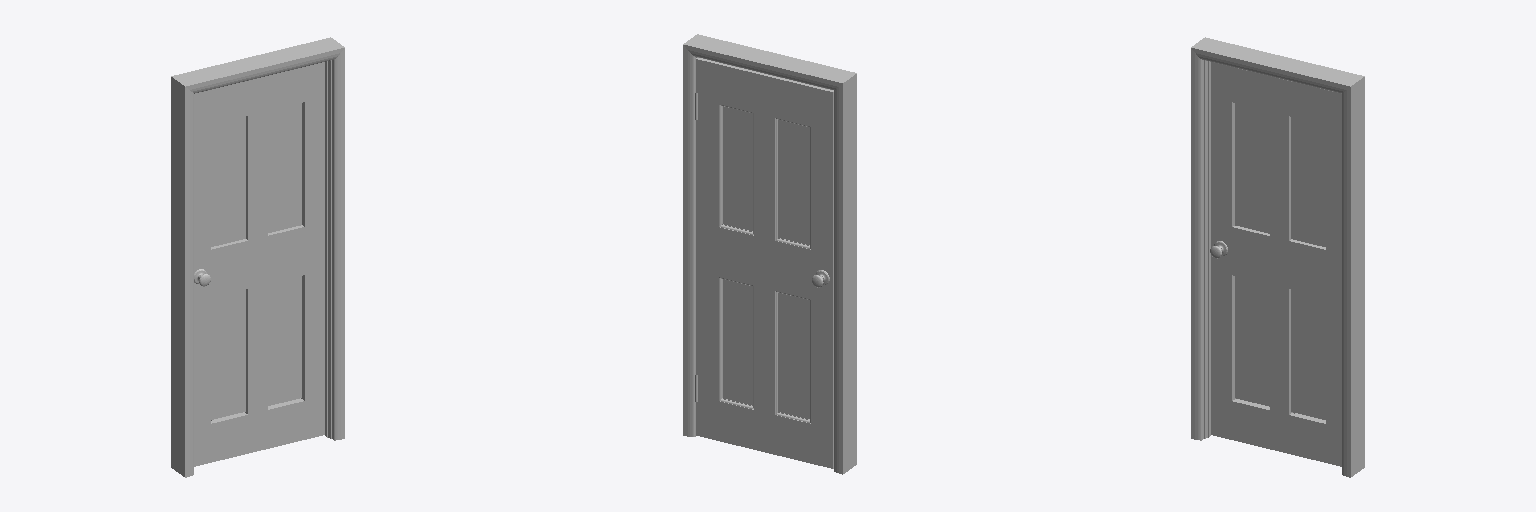
File: door1_2.obj
3 renders of one model, left to right at view 1: azimuth 30°, elevation 25°; view 2: azimuth 150°, elevation 25°; view 3: azimuth 330°, elevation 25°, orthographic.
Parts seen in each view (by area): view 1: extrudedSurface981_43_99, pCube222_5_61, pCube227_11_67, pCube224_8_64, pPlane730_29_29, pPlane732_31_31, pPlane731_30_30, pPlane729_28_28, extrudedSurface98_42_98, pCube223_6_62, pCube226_10_66, extrudedSurface982_50_106 (+7 smaller); view 2: extrudedSurface981_43_99, pCube222_5_61, pCube224_8_64, pCube227_11_67, pCube226_10_66, pPlane732_31_87, pCube223_6_62, pPlane730_29_85, pPlane731_30_86, pPlane729_28_84, extrudedSurface98_42_98, extrudedSurface982_50_106 (+6 smaller); view 3: extrudedSurface98_42_98, pCube224_8_64, pCube227_11_67, pCube222_5_61, pPlane732_31_31, pPlane729_28_28, pPlane730_29_29, pPlane731_30_30, extrudedSurface981_43_99, pCube223_6_62, pCube226_10_66, extrudedSurface982_50_106 (+7 smaller).
Boxes of the visible parts, box(x1,y1,x2,y2) form: extrudedSurface981_43_99: box(171, 77, 193, 477); pCube222_5_61: box(305, 62, 324, 439); pCube227_11_67: box(245, 111, 267, 414); pCube224_8_64: box(194, 90, 210, 466); pPlane730_29_29: box(211, 117, 245, 246); pPlane732_31_31: box(211, 289, 245, 419); pPlane731_30_30: box(268, 276, 301, 405); pPlane729_28_28: box(268, 103, 301, 232); extrudedSurface98_42_98: box(335, 48, 344, 440); pCube223_6_62: box(211, 398, 304, 462); pCube226_10_66: box(211, 67, 304, 124); extrudedSurface982_50_106: box(175, 40, 344, 93); extrudedSurface981_43_99: box(835, 74, 856, 474); pCube222_5_61: box(696, 58, 718, 440); pCube224_8_64: box(812, 87, 833, 468); pCube227_11_67: box(755, 112, 773, 415); pCube226_10_66: box(718, 63, 811, 125); pPlane732_31_87: box(779, 293, 809, 418); pCube223_6_62: box(718, 402, 811, 463); pPlane730_29_85: box(779, 120, 809, 244); pPlane731_30_86: box(723, 279, 752, 405); pPlane729_28_84: box(723, 107, 752, 230); extrudedSurface98_42_98: box(683, 45, 691, 436); extrudedSurface982_50_106: box(683, 34, 856, 89); extrudedSurface98_42_98: box(1342, 77, 1364, 477); pCube224_8_64: box(1211, 62, 1231, 439); pCube227_11_67: box(1270, 112, 1292, 414); pCube222_5_61: box(1326, 90, 1341, 466); pPlane732_31_31: box(1235, 276, 1269, 406); pPlane729_28_28: box(1291, 117, 1325, 246); pPlane730_29_29: box(1235, 103, 1269, 233); pPlane731_30_30: box(1291, 290, 1325, 419); extrudedSurface981_43_99: box(1191, 48, 1200, 440); pCube223_6_62: box(1232, 399, 1325, 462); pCube226_10_66: box(1232, 67, 1325, 124); extrudedSurface982_50_106: box(1191, 40, 1360, 93).
Bounding box in the file's own units: 91.44 × 214 × 18.23.